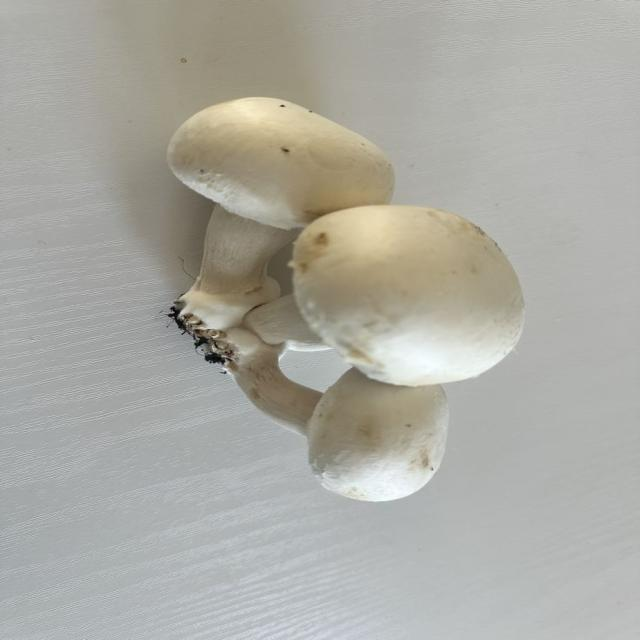champignon mushrooms: (167, 98, 393, 334), (293, 206, 523, 385), (216, 329, 447, 501), (243, 295, 330, 350)
